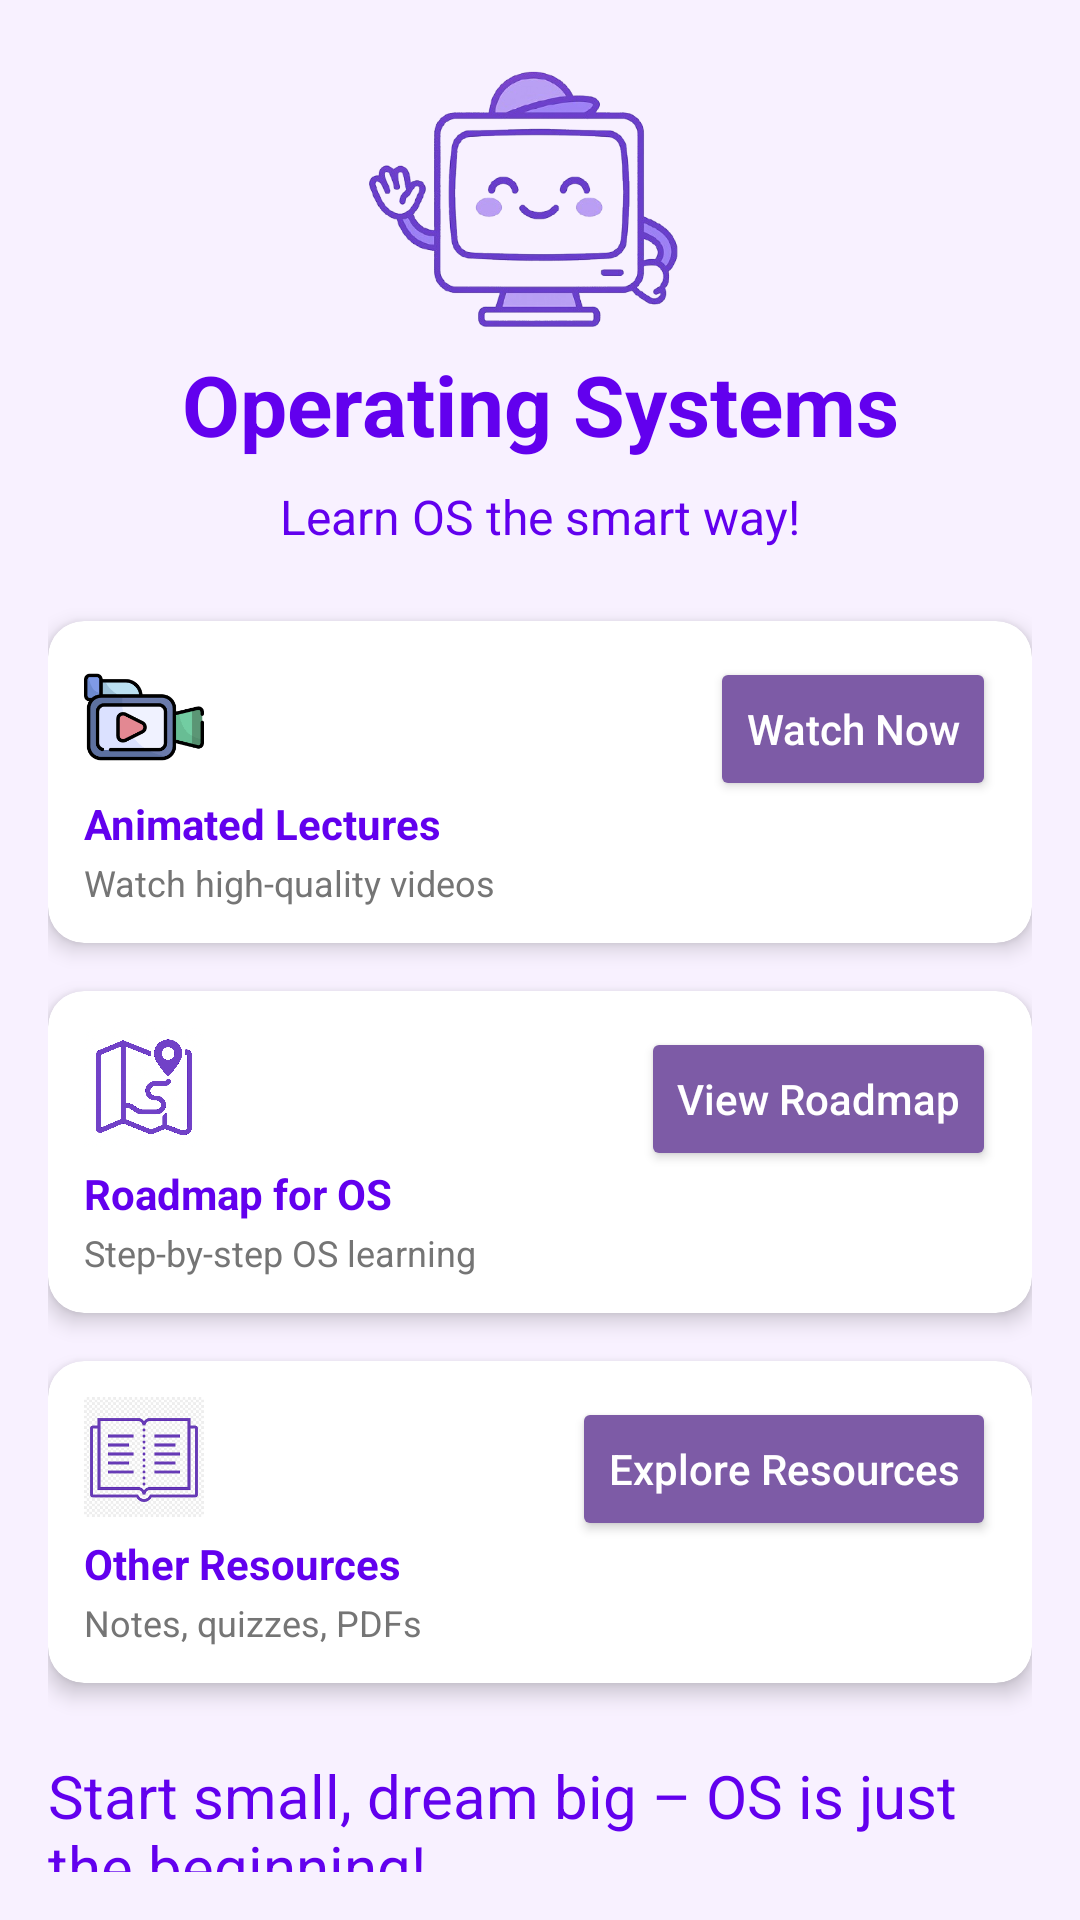

Icons on this 1080px x 1920px Android screen, each with the point to tap as (x,y):
Lecture Icon: (144,717)
